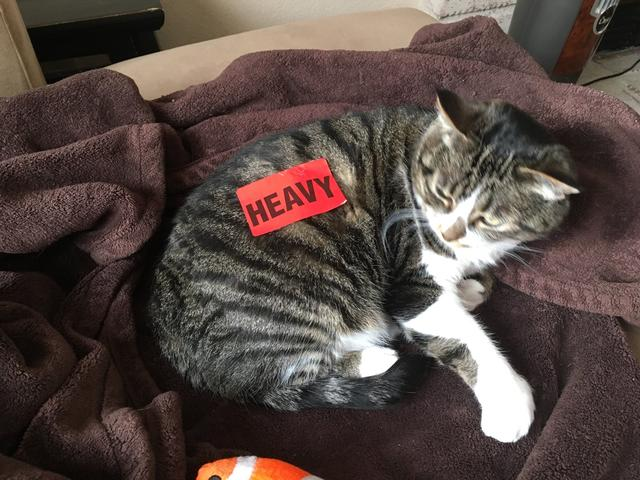clownfish: (195, 451, 327, 480)
playdoh: (142, 85, 585, 441)
